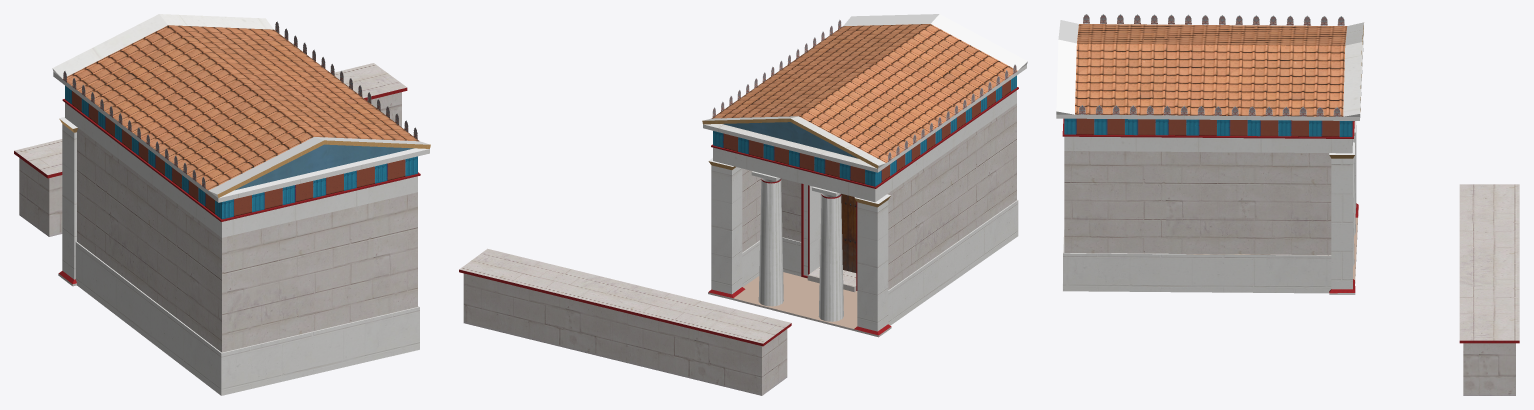
File: zeus.fbx
The picture shows the model from 3 angles, left to right: view 1: azimuth 30°, elevation 25°; view 2: azimuth 150°, elevation 25°; view 3: azimuth 270°, elevation 25°; orthographic projection. The views are drawn at different scales.
Parts seen in each view (by area): view 1: Group1; view 2: Group1; view 3: Group1.
Part boxes in pixels (x1=…): Group1: x1=14, y1=14, x2=430, y2=395; Group1: x1=459, y1=14, x2=1027, y2=395; Group1: x1=1056, y1=14, x2=1519, y2=395.
Bounding box in the file's own units: 9644 × 5599 × 10500.
